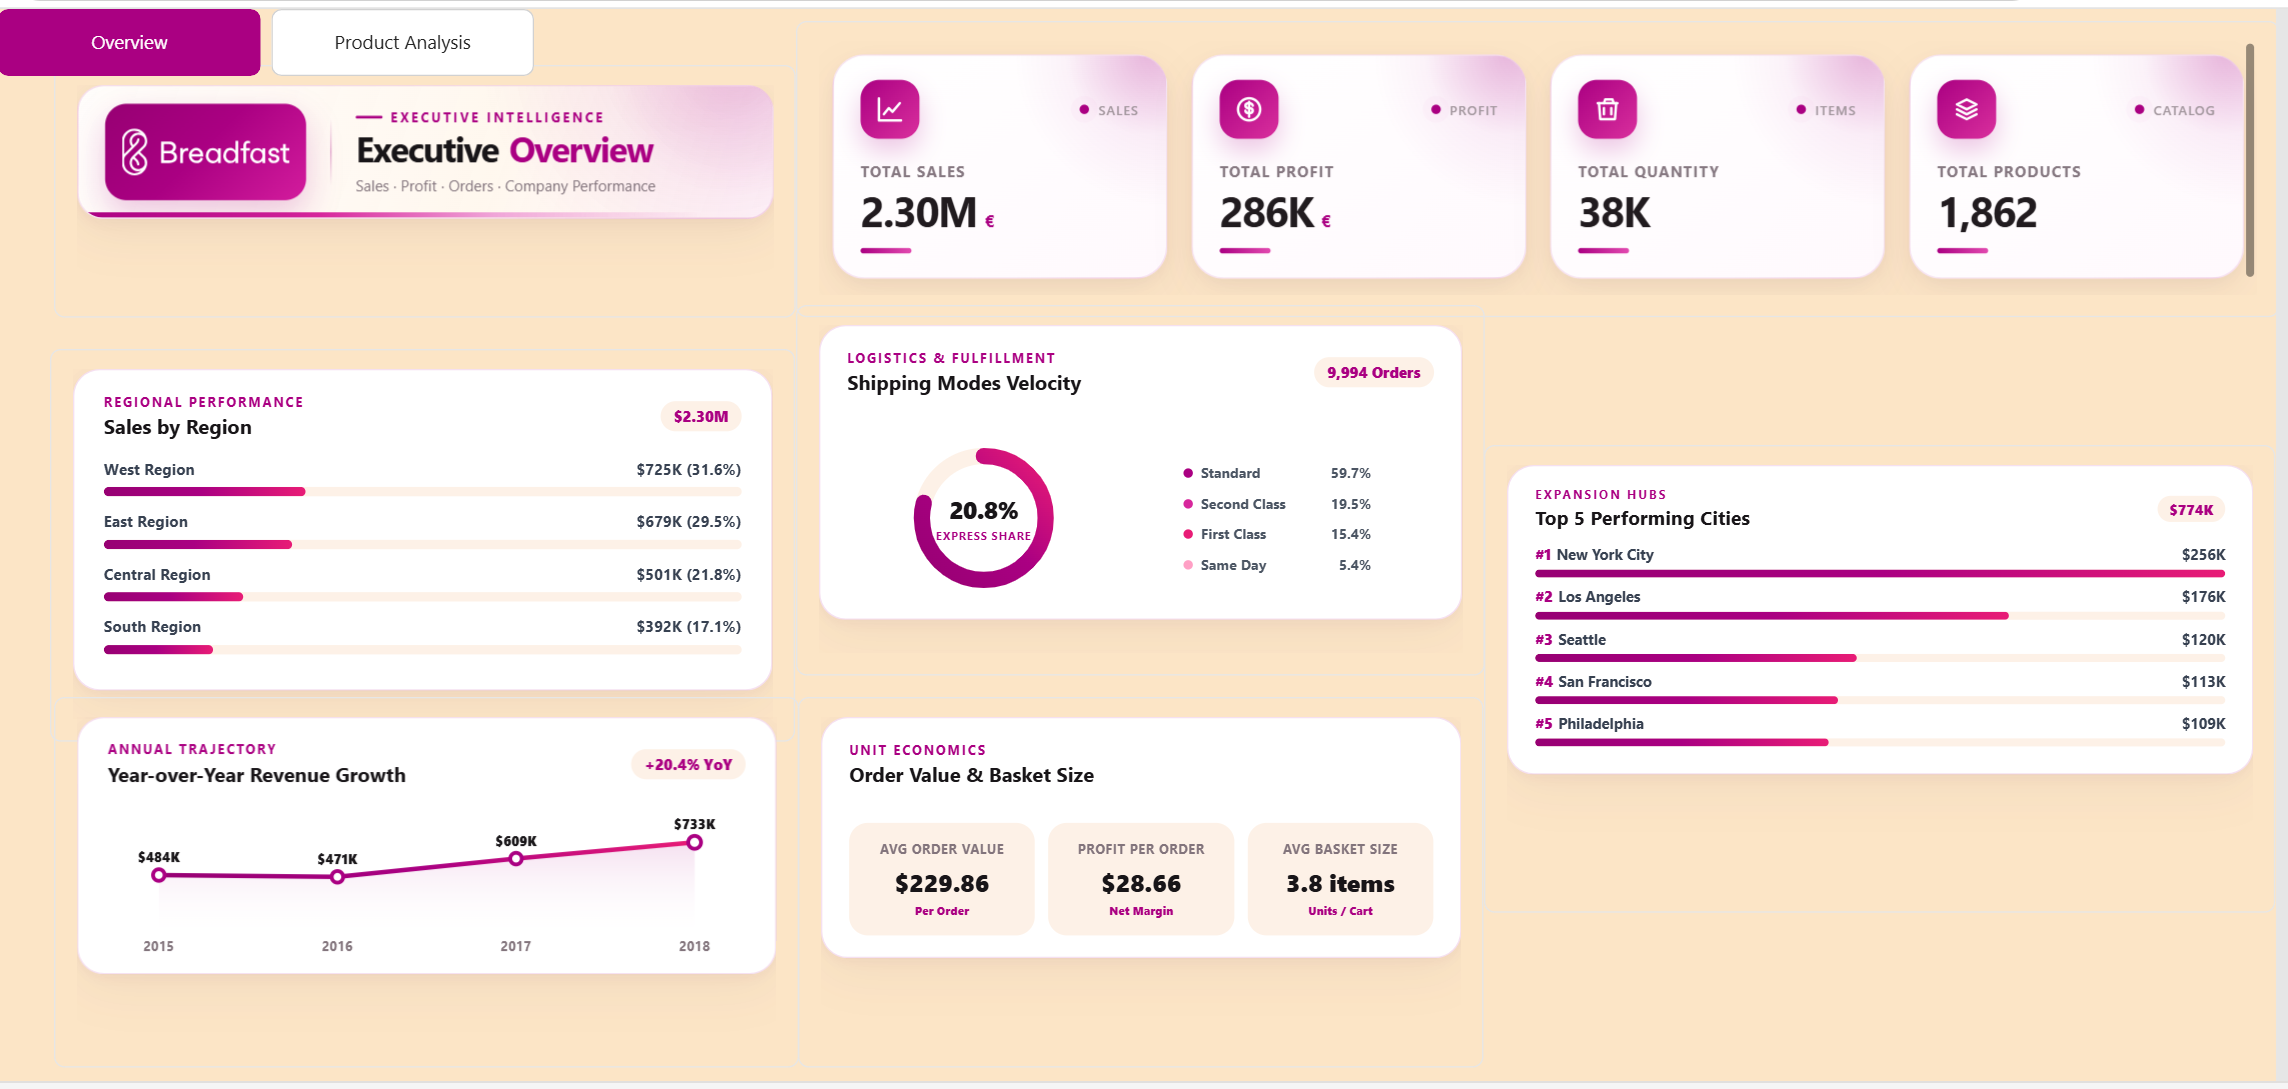

This screenshot's page, from the dashboard's own definition file:
{"tool":"powerbi","page":{"name":"Overview","canvas":[1700,800],"ordinal":0},"visuals":[{"type":"htmlContent443BE3AD55E043BF878BED274D3A6855","fields":{"content":["Dax Measures.BF_Overview_Header_HTML"]},"box":[41.9,41.9,553.5,188.4],"z":0},{"type":"htmlContent443BE3AD55E043BF878BED274D3A6855","fields":{"content":["Dax Measures.BF KPI Cards HTML"]},"box":[595.3,9.3,1107,220.9],"z":1},{"type":"htmlContent443BE3AD55E043BF878BED274D3A6855","fields":{"content":["Dax Measures.BF Overview Regional Sales HTML"]},"box":[39.5,253.5,555.8,293],"z":2},{"type":"htmlContent443BE3AD55E043BF878BED274D3A6855","fields":{"content":["Dax Measures.BF Overview Shipping Modes HTML"]},"box":[595.3,220.9,514,276.7],"z":3},{"type":"htmlContent443BE3AD55E043BF878BED274D3A6855","fields":{"content":["Dax Measures.BF Overview Top 5 Cities HTML"]},"box":[1109.3,325.6,590.7,348.8],"z":4},{"type":"htmlContent443BE3AD55E043BF878BED274D3A6855","fields":{"content":["Dax Measures.BF Overview Annual Growth HTML"]},"box":[41.9,514,555.8,276.7],"z":5},{"type":"htmlContent443BE3AD55E043BF878BED274D3A6855","fields":{"content":["Dax Measures.BF Overview Unit Economics HTML"]},"box":[597.7,514,511.6,276.7],"z":6},{"type":"pageNavigator","box":[0,0,400,50],"z":7}]}

Visuals, with their boxes in screenshot pixels (x1, y1, x2, y2), scaled from the page's 1700x800 canvas onto the 2288x1089 screenshot:
htmlContent443BE3AD55E043BF878BED274D3A6855 - Dax Measures.BF_Overview_Header_HTML: 56 57 801 313
htmlContent443BE3AD55E043BF878BED274D3A6855 - Dax Measures.BF KPI Cards HTML: 801 13 2287 313
htmlContent443BE3AD55E043BF878BED274D3A6855 - Dax Measures.BF Overview Regional Sales HTML: 53 345 801 744
htmlContent443BE3AD55E043BF878BED274D3A6855 - Dax Measures.BF Overview Shipping Modes HTML: 801 301 1493 677
htmlContent443BE3AD55E043BF878BED274D3A6855 - Dax Measures.BF Overview Top 5 Cities HTML: 1493 443 2287 918
htmlContent443BE3AD55E043BF878BED274D3A6855 - Dax Measures.BF Overview Annual Growth HTML: 56 700 804 1076
htmlContent443BE3AD55E043BF878BED274D3A6855 - Dax Measures.BF Overview Unit Economics HTML: 804 700 1493 1076
pageNavigator: 0 0 538 68
